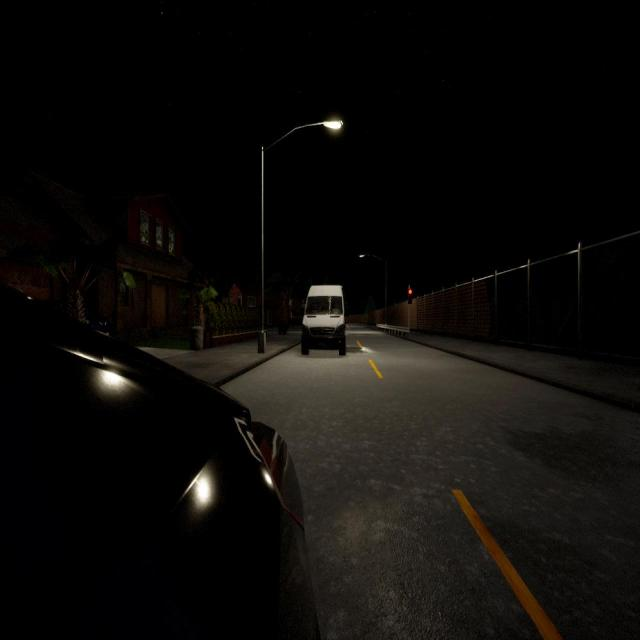Vehicle: (0, 284, 319, 638), (299, 285, 348, 356)
traffic_light: (408, 290, 413, 305)
